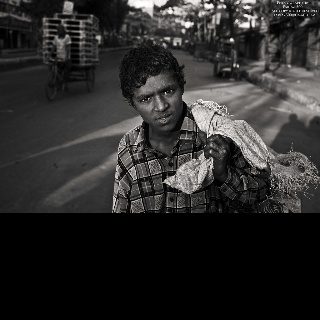without_mask: (132, 73, 183, 133)
